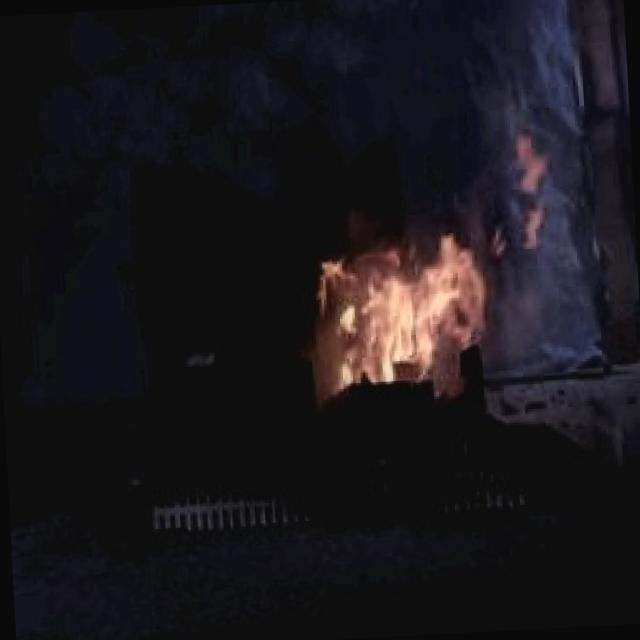fire: (300, 192, 510, 407)
